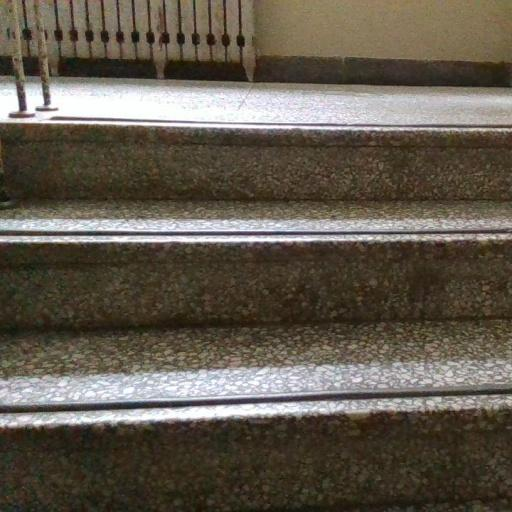stairs: (0, 120, 511, 511)
